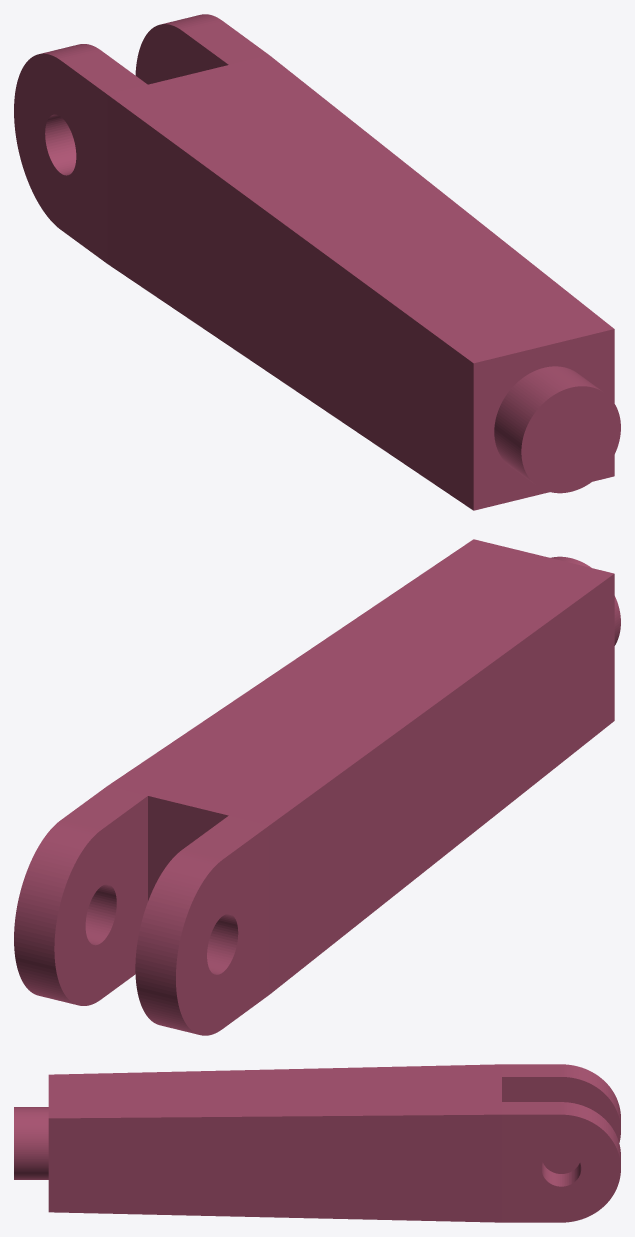
The picture shows the model from 3 angles, top to bottom: view 1: azimuth 30°, elevation 25°; view 2: azimuth 150°, elevation 25°; view 3: azimuth 270°, elevation 25°; orthographic projection. The views are drawn at different scales.
Visible parts, largest first — view 1: node; view 2: node; view 3: node.
Boxes of the visible parts, x1,y1,x2,y2 form: node: [14, 14, 620, 510]; node: [14, 539, 620, 1035]; node: [14, 1064, 620, 1222].
Size of the model in its own units: 0.0657 by 0.0657 by 0.3347.
